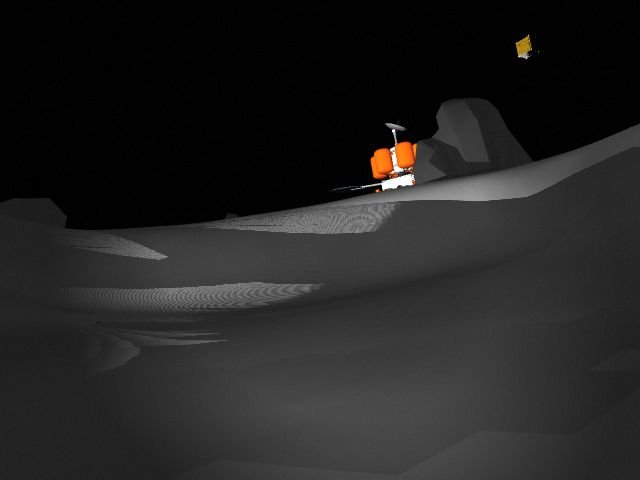cubesat: (510, 30, 550, 64)
